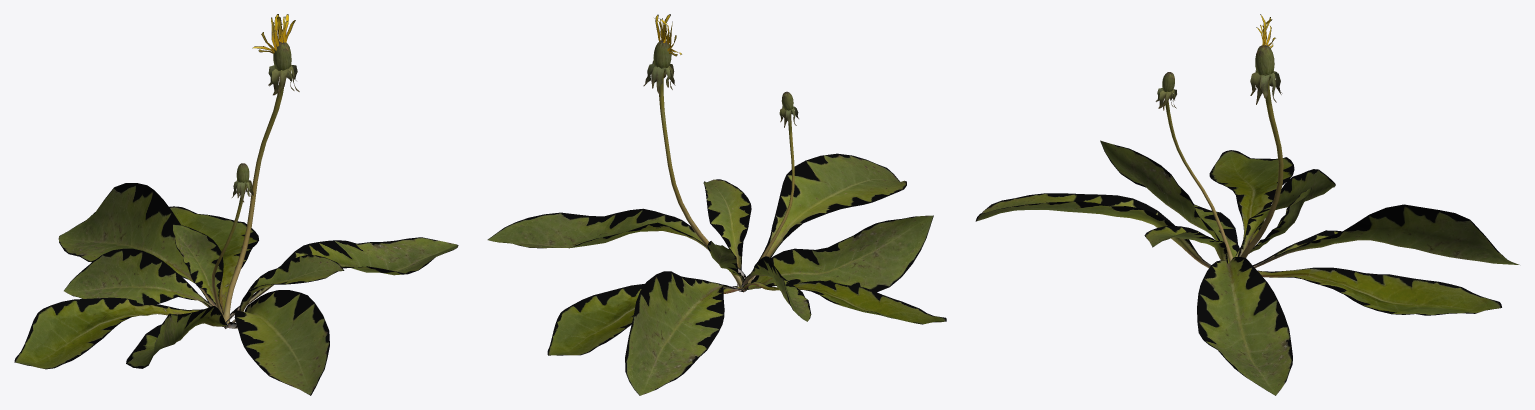
The model's file is dandelion_01_c.gltf.
3 views of the same model, side by side, from view 1: azimuth 30°, elevation 25°; view 2: azimuth 150°, elevation 25°; view 3: azimuth 270°, elevation 25° (orthographic). The views are drawn at different scales.
Visible parts, largest first — view 1: dandelion_01_c_LOD0; view 2: dandelion_01_c_LOD0; view 3: dandelion_01_c_LOD0.
Part boxes in pixels (left/top/right/bottom): dandelion_01_c_LOD0: left=14, top=14, right=458, bottom=395; dandelion_01_c_LOD0: left=487, top=14, right=946, bottom=395; dandelion_01_c_LOD0: left=975, top=14, right=1519, bottom=395.
Size of the model in its own units: 0.1699 by 0.1009 by 0.1671.
Materials: 1 (1 with a texture image).
